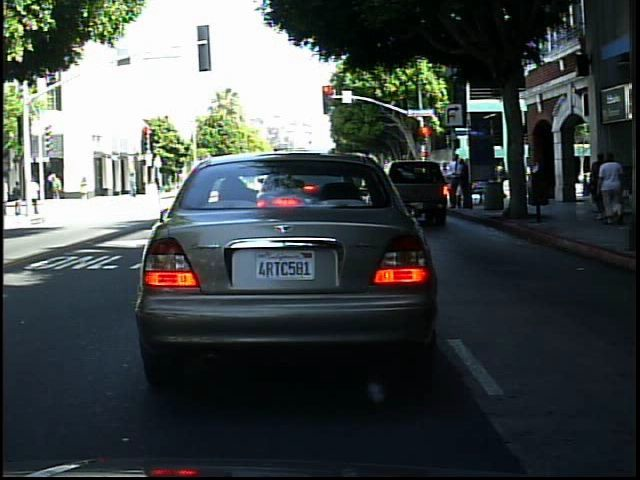person: (595, 149, 629, 229), (588, 150, 612, 227), (76, 169, 94, 207), (497, 156, 512, 200), (48, 169, 67, 202), (10, 178, 25, 218), (125, 166, 142, 201), (30, 172, 43, 216)
